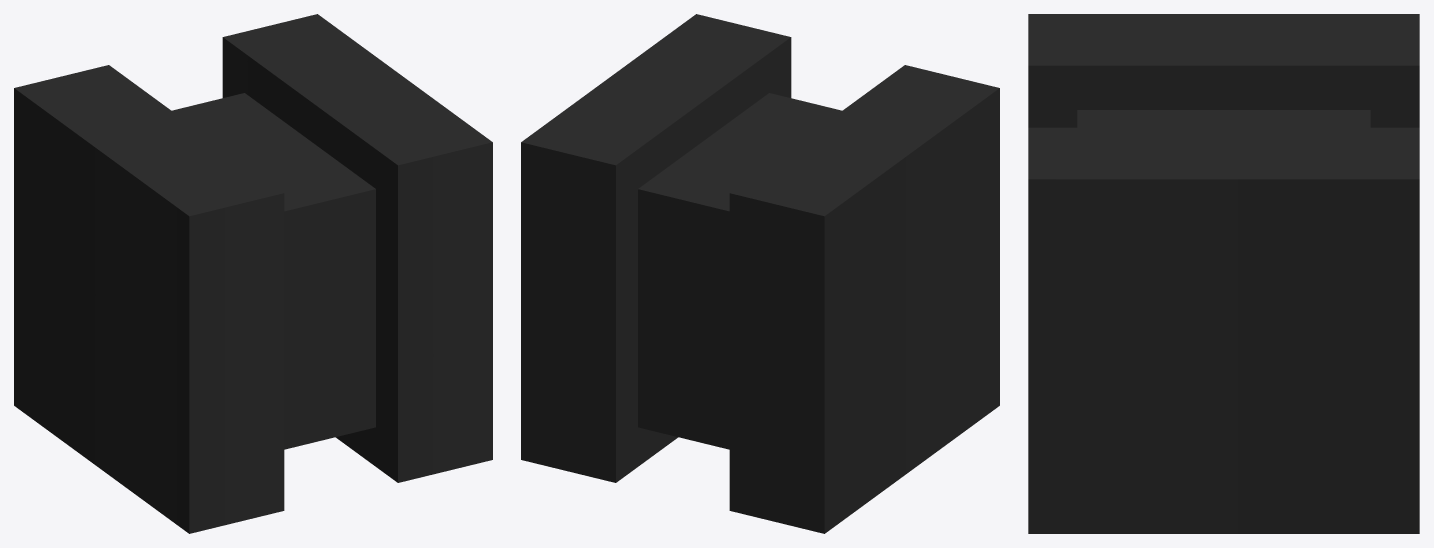
The model's file is rotor_east_west.obj.
3 renders of one model, left to right at view 1: azimuth 30°, elevation 25°; view 2: azimuth 150°, elevation 25°; view 3: azimuth 270°, elevation 25°, orthographic. The views are drawn at different scales.
Parts seen in each view (by area): view 1: rotor; view 2: rotor; view 3: rotor.
Boxes of the visible parts, x1=… form: rotor: x1=14, y1=14, x2=492, y2=533; rotor: x1=521, y1=14, x2=999, y2=533; rotor: x1=1028, y1=14, x2=1419, y2=533.
Size of the model in its own units: 1 by 1 by 1.
